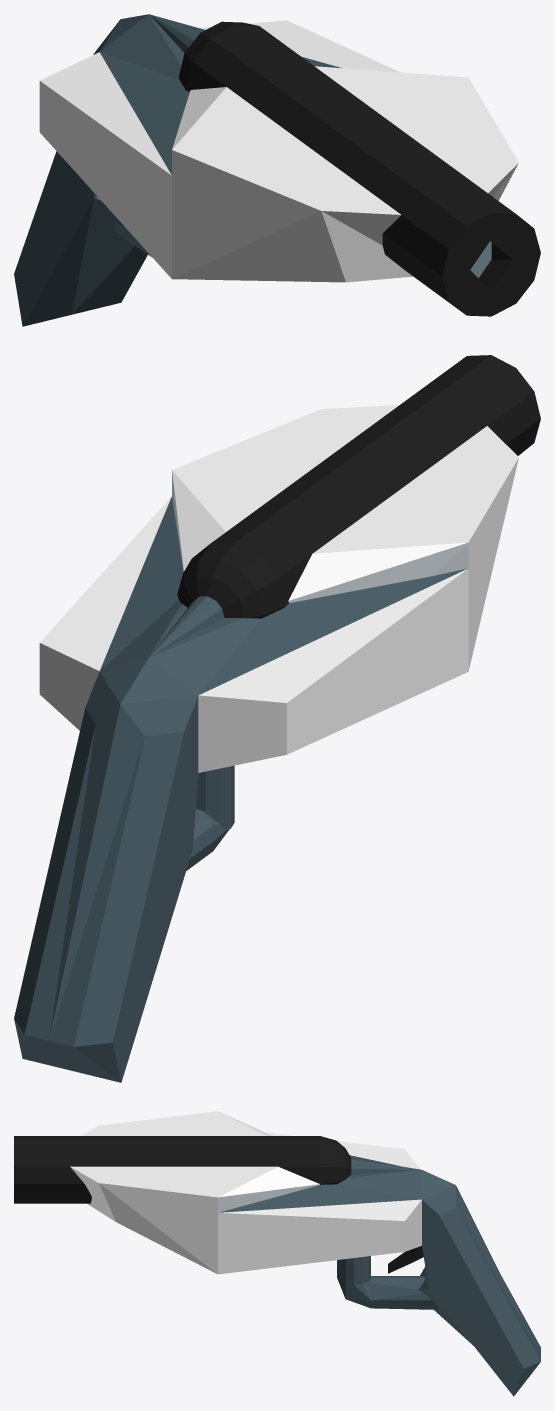
The model's file is Tool Gun.fbx.
3 views of the same model, one above another, from view 1: azimuth 30°, elevation 25°; view 2: azimuth 150°, elevation 25°; view 3: azimuth 270°, elevation 25° (orthographic). The views are drawn at different scales.
Visible parts, largest first — view 1: mesh_1438261761, mesh_2076897480, mesh_286829909, mesh_1676535175, mesh_2117516591, mesh_1535498805, mesh_782863245; view 2: mesh_1676535175, mesh_286829909, mesh_1438261761, mesh_2076897480, mesh_2117516591, mesh_1535498805, mesh_1128281811, mesh_967811049; view 3: mesh_1438261761, mesh_2117516591, mesh_1676535175, mesh_2076897480, mesh_967811049, mesh_1535498805, mesh_1128281811, mesh_286829909, mesh_351082824.
Boxes of the visible parts, box(x1,y1,x2,y2) form: mesh_1438261761: box(172, 66, 518, 282); mesh_2076897480: box(185, 25, 540, 316); mesh_286829909: box(39, 14, 189, 278); mesh_1676535175: box(14, 14, 148, 326); mesh_2117516591: box(150, 14, 400, 72); mesh_1535498805: box(149, 14, 257, 88); mesh_782863245: box(470, 241, 491, 277); mesh_1676535175: box(14, 657, 198, 1082); mesh_286829909: box(149, 568, 468, 772); mesh_1438261761: box(172, 405, 518, 670); mesh_2076897480: box(210, 355, 540, 607); mesh_2117516591: box(39, 496, 187, 730); mesh_1535498805: box(150, 543, 283, 656); mesh_1128281811: box(196, 765, 234, 830); mesh_967811049: box(186, 809, 229, 870); mesh_1438261761: box(70, 1111, 319, 1274); mesh_2117516591: box(218, 1169, 421, 1274); mesh_1676535175: box(418, 1170, 540, 1396); mesh_2076897480: box(14, 1136, 319, 1203); mesh_967811049: box(346, 1276, 438, 1309); mesh_1535498805: box(320, 1136, 420, 1184); mesh_1128281811: box(337, 1256, 370, 1300); mesh_286829909: box(266, 1132, 420, 1169); mesh_351082824: box(388, 1246, 423, 1273).
Size of the model in its own units: 12 by 15.8 by 31.
